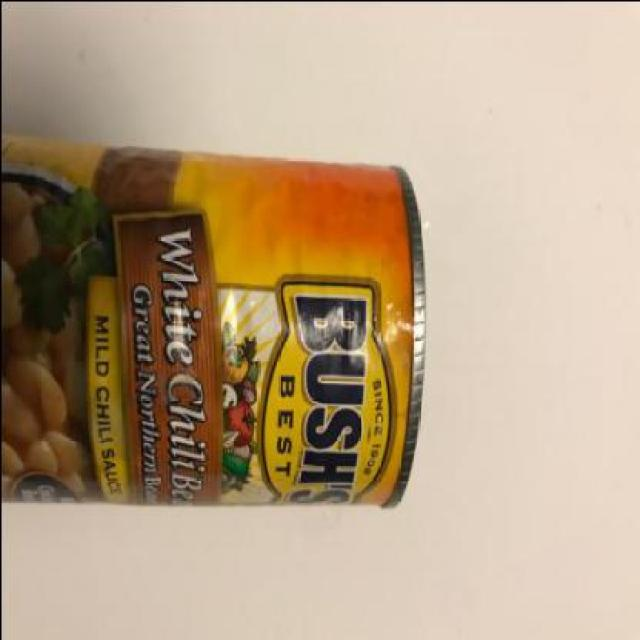METAL: (1, 137, 425, 509)
